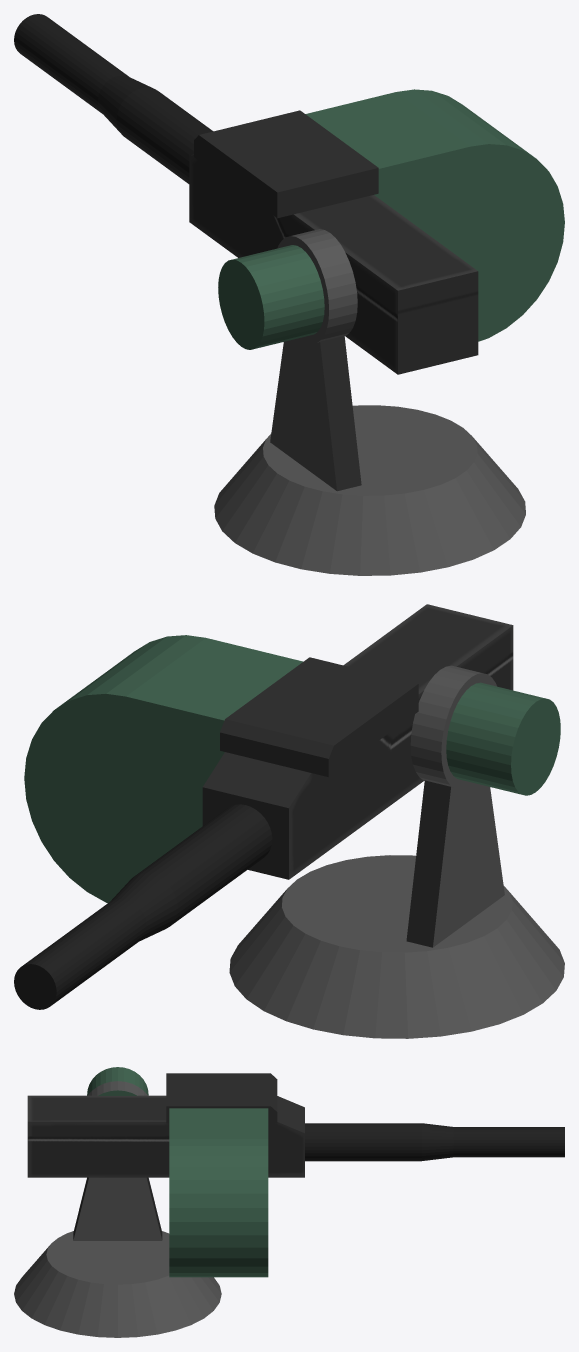
Rendered from AGL.glb.
The picture shows the model from 3 angles, top to bottom: view 1: azimuth 30°, elevation 25°; view 2: azimuth 150°, elevation 25°; view 3: azimuth 270°, elevation 25°; orthographic projection. The views are drawn at different scales.
Visible parts, largest first — view 1: turret, barrel, mag; view 2: turret, barrel, mag; view 3: barrel, turret, mag.
Part boxes in pixels (x1,y1,x2,y2): turret: (214, 229, 525, 575); barrel: (14, 14, 478, 374); mag: (305, 89, 564, 341); turret: (229, 665, 564, 1038); barrel: (14, 604, 513, 1009); mag: (24, 635, 302, 903); barrel: (27, 1073, 564, 1177); turret: (14, 1067, 221, 1337); mag: (169, 1108, 268, 1277).
Bounding box in the file's own units: 0.6157 × 0.4859 × 1.2.
1 material, 1 textured.
